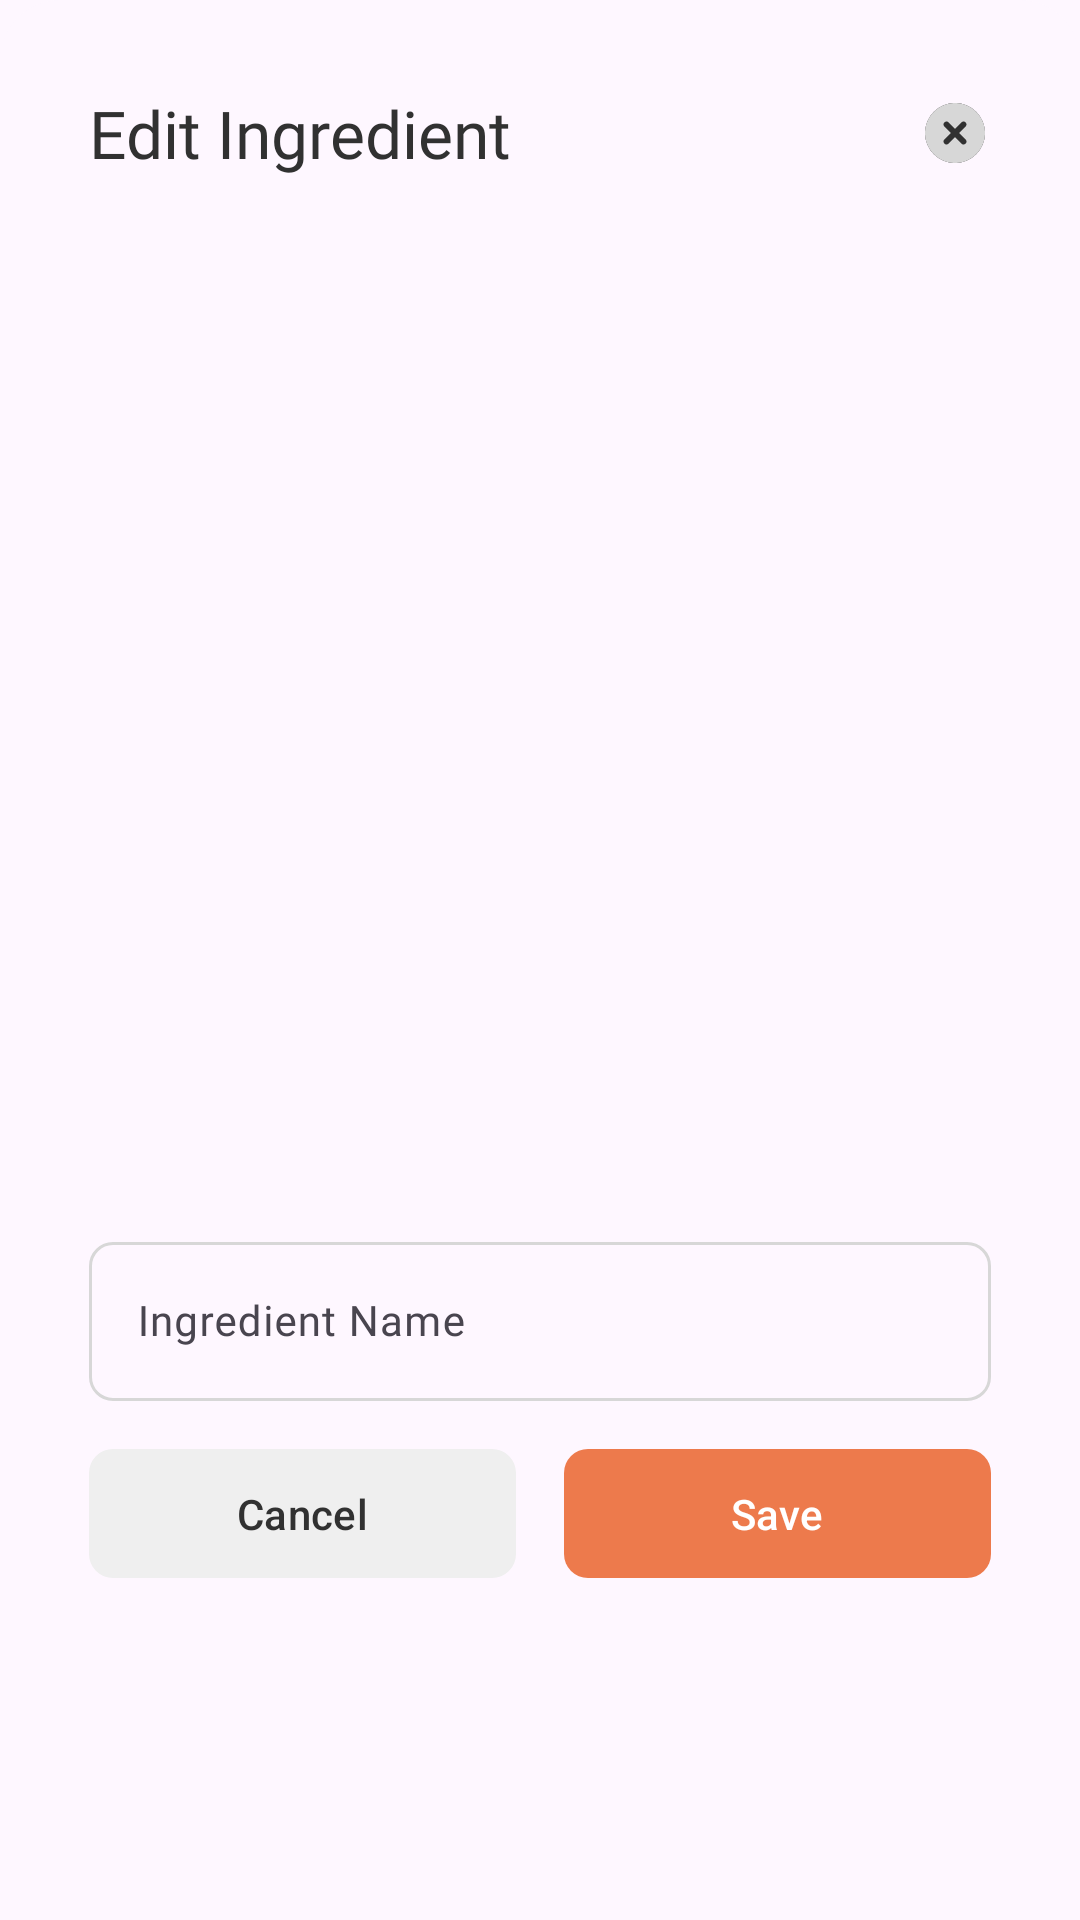

Icons on this 1080*1920 Android screen, each with the point to tap as point (x, y):
close dropdown: point (955, 133)
